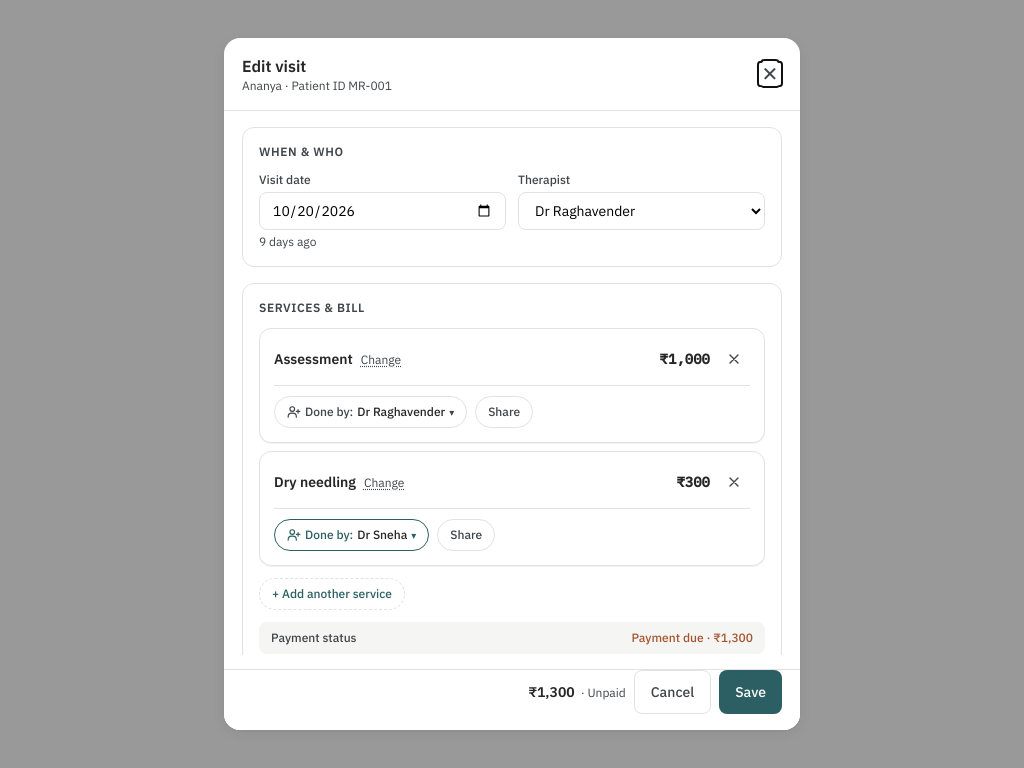
Test: EditVisitModal › warns when changing visit date moves visit into another month
In the date field labelled "Visit date": (382, 211) x1=259 y1=192 x2=506 y2=230, type "2026-11-05"
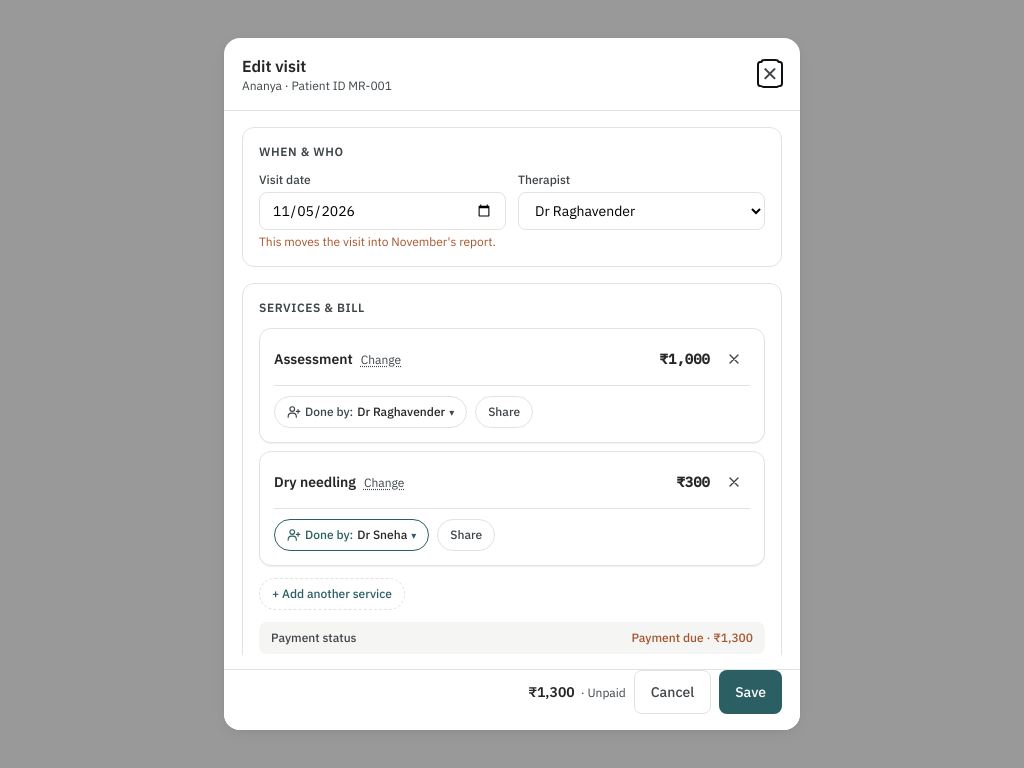
Check: the text "This moves the visit into November's report." is shown, box x1=259 y1=234 x2=506 y2=250
